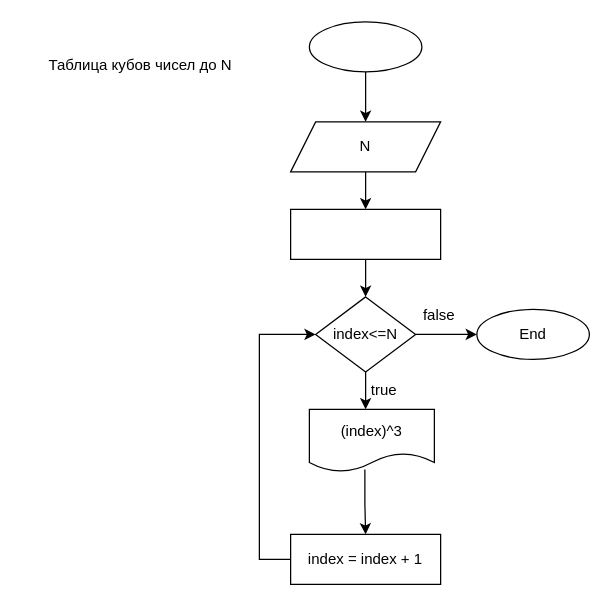
The diagram is 611 pixels wide and 606 high, and some of its shapes have lost their labels. The shapes that lost their labels are listed below. From the top down, each one's centre as x and y in pixels, then its label:
At point 365,46: "Start".
At point 365,233: "index = 1".
